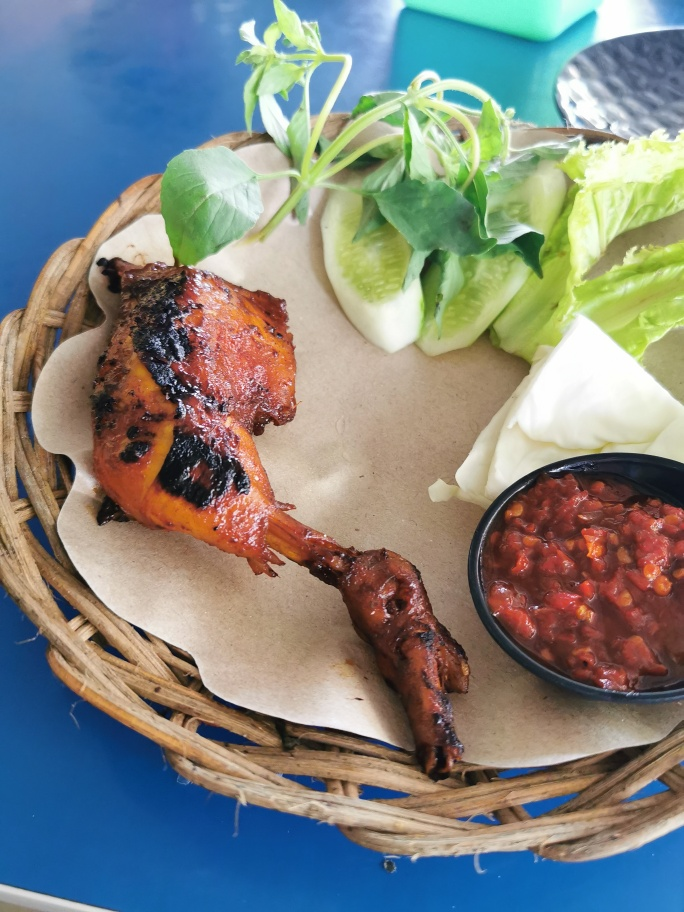ayam bakar: (90, 238, 473, 779)
